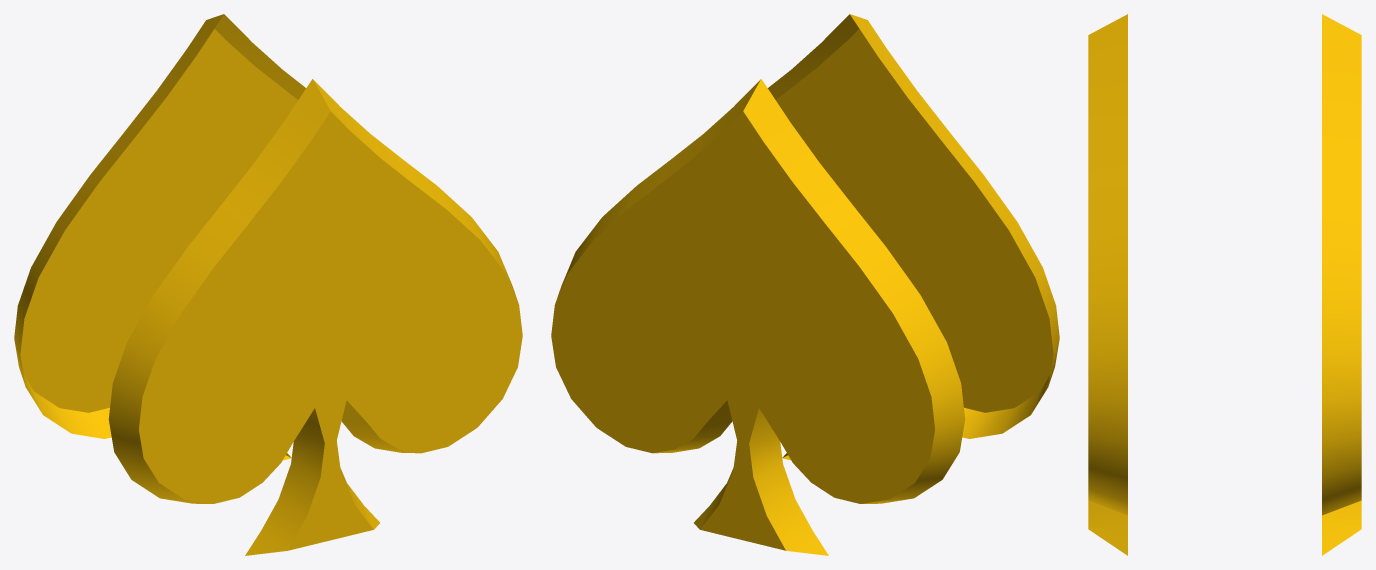
The model's file is Spades.fbx.
The picture shows the model from 3 angles, left to right: view 1: azimuth 30°, elevation 25°; view 2: azimuth 150°, elevation 25°; view 3: azimuth 270°, elevation 25°; orthographic projection. The views are drawn at different scales.
Visible parts, largest first — view 1: Spades; view 2: Spades; view 3: Spades.
Boxes of the visible parts, box(x1,y1,x2,y2) form: Spades: box(14, 14, 522, 555); Spades: box(551, 14, 1059, 555); Spades: box(1088, 14, 1361, 555).
Size of the model in its own units: 86.21 by 93.06 by 45.64.
